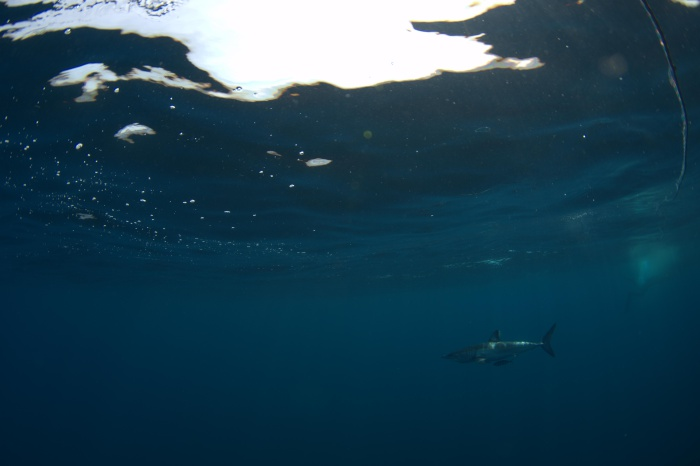Mako: (427, 313, 571, 379)
